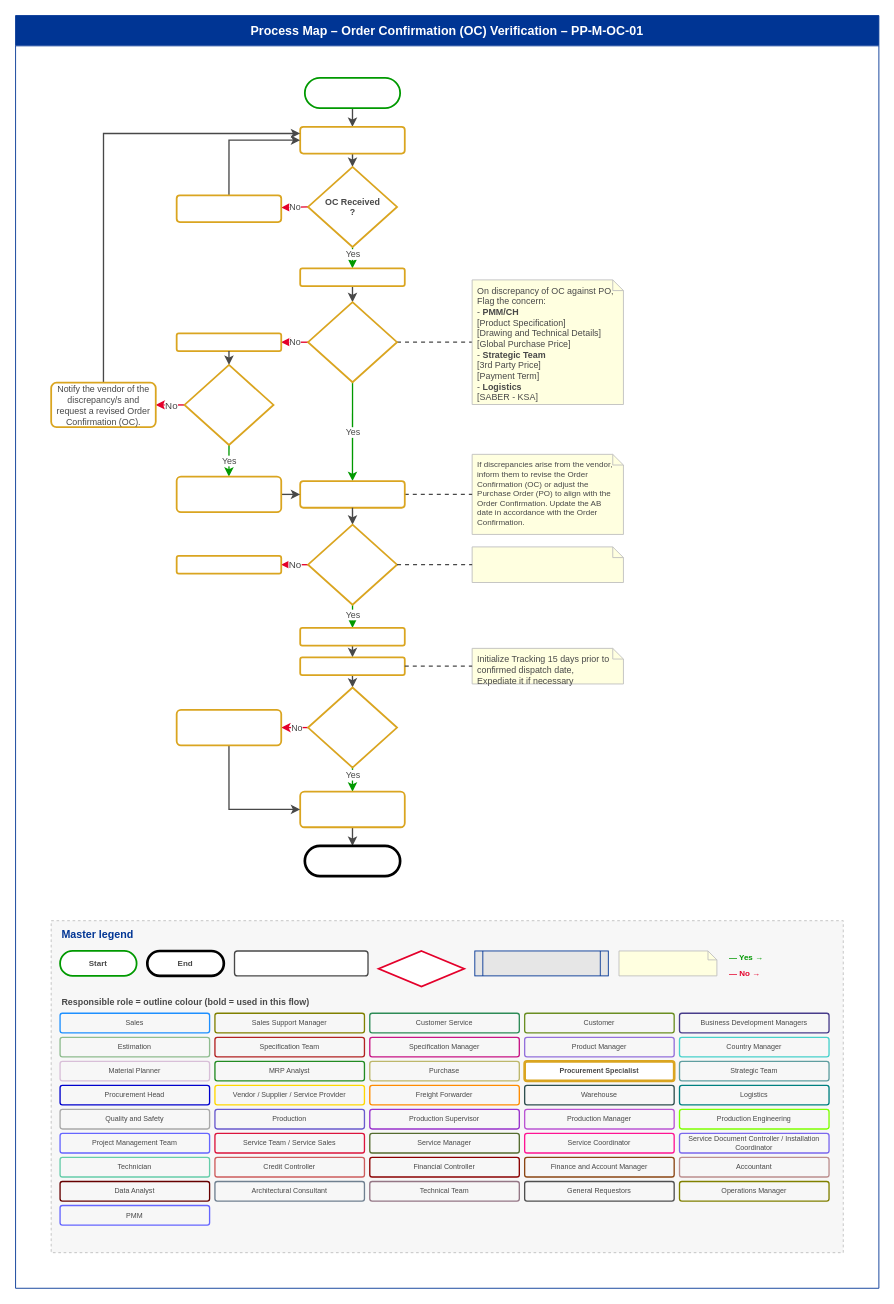
The diagram is 894 pixels wide and 1304 high, and some of its shapes have lost their labels. The centre of each missing label's shape, as x and y in pixels:
"Activity (outline = role)" belongs at [300,963].
"Air waybill AWB to be created by vendor or nominated freight forwarder." belongs at [547,564].
"Arrange Shipment, Get packing list and share with Logistics" belongs at [352,809].
"Decision" belongs at [421,968].
"Discrepancy Accpeted by concern?" belongs at [228,404].
"Escalate if TAT Exceed 7 Days" belongs at [228,208].
"Flag Discrepancy" belongs at [228,342].
"Follow-up on Vendor OC" belongs at [352,139].
"Get New date, Notify Customer Service" belongs at [228,727].
"Inbound Shipment" belongs at [352,860].
"Linked process (Ref ID)" belongs at [541,963].
"Make Changes, Update AB date" belongs at [352,494].
"Note / checklist" belongs at [667,963].
"OC Validated?" belongs at [352,342].
"OC Verification" belongs at [352,93].
"On Time?" belongs at [352,727].
"Packing list Received?" belongs at [352,564].
"Request Packing list" belongs at [228,564].
"Shipment Tracking" belongs at [352,666].
"Update LA date" belongs at [352,636].
"Update Purchase Records if discrepancy is permanent" belongs at [228,494].
"Validate OC" belongs at [352,277].
